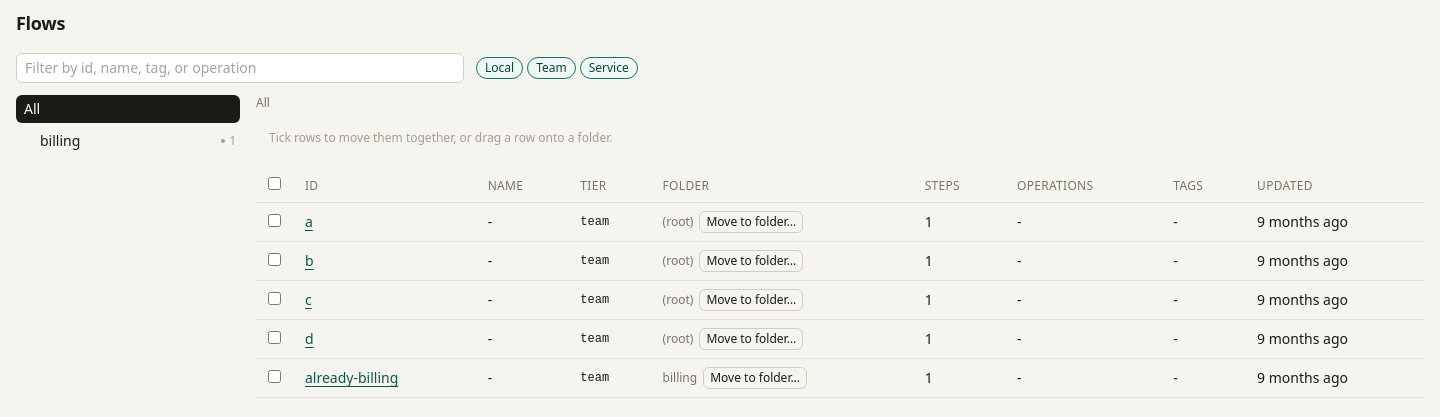
Test: bulk move (via FlowsPage) › clears the selection when a tier chip is toggled
Expected: the link "a" is shown, [305,212,313,231]
Click the checkbox named "select a" at (274, 220), box [268,214,281,227]
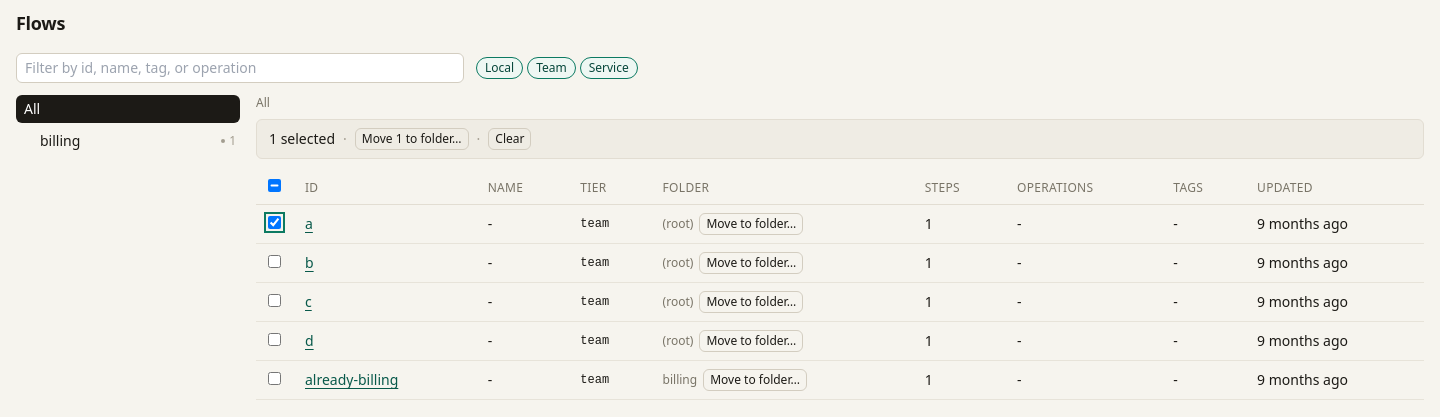
Now the text "1 selected" is shown, box [269,129,335,149]
Click the button "Team" at (551, 68), box [527,57,576,79]
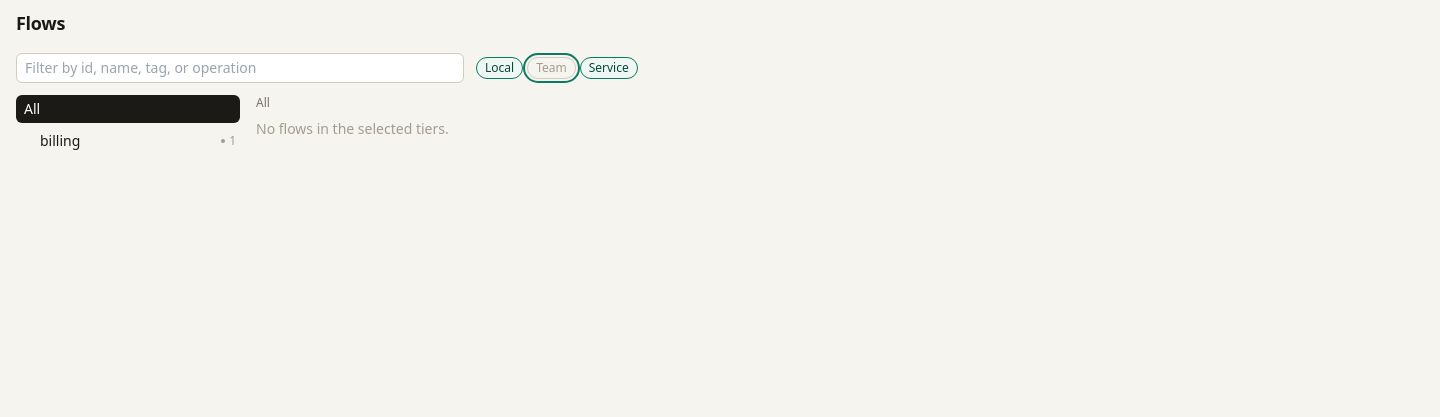
Now the text "1 selected" is gone
